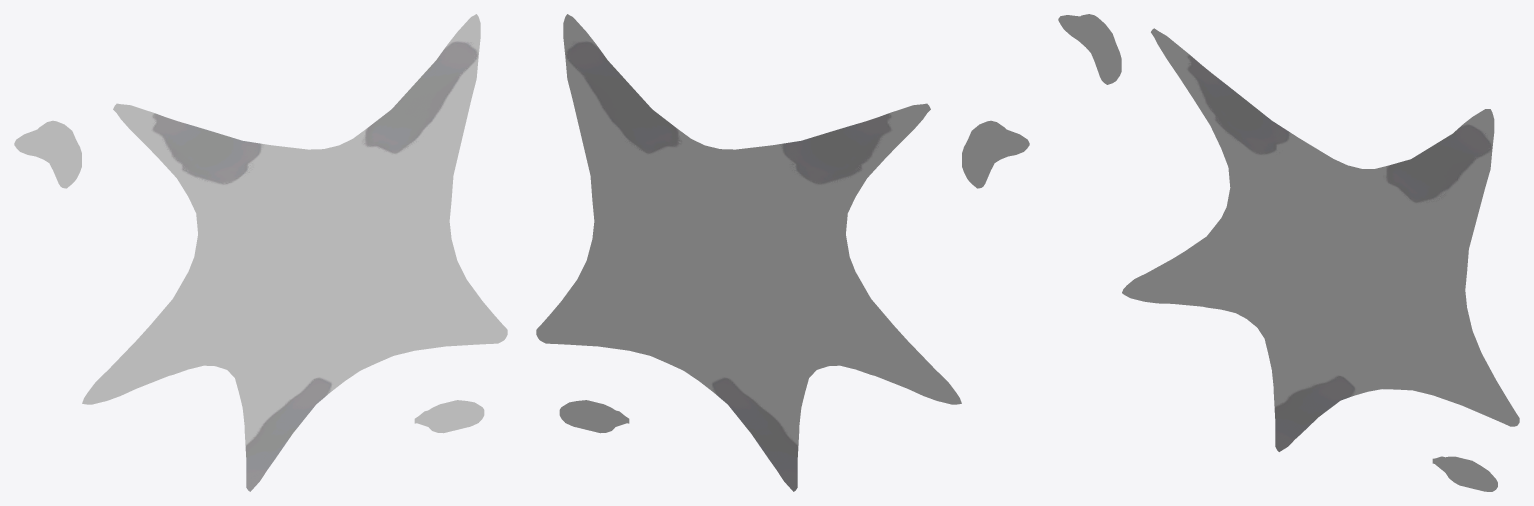
File: Sid.glb
3 views of the same model, side by side, from view 1: azimuth 30°, elevation 25°; view 2: azimuth 150°, elevation 25°; view 3: azimuth 330°, elevation 25° (orthographic). The views are drawn at different scales.
Parts seen in each view (by area): view 1: Sid; view 2: Sid; view 3: Sid.
Boxes of the visible parts, <box> form: Sid: <box>14,14,507,491</box>; Sid: <box>536,14,1029,491</box>; Sid: <box>1058,14,1519,491</box>.
Size of the model in its own units: 169 by 138 by 8.58e-06.
1 material, 1 textured.
